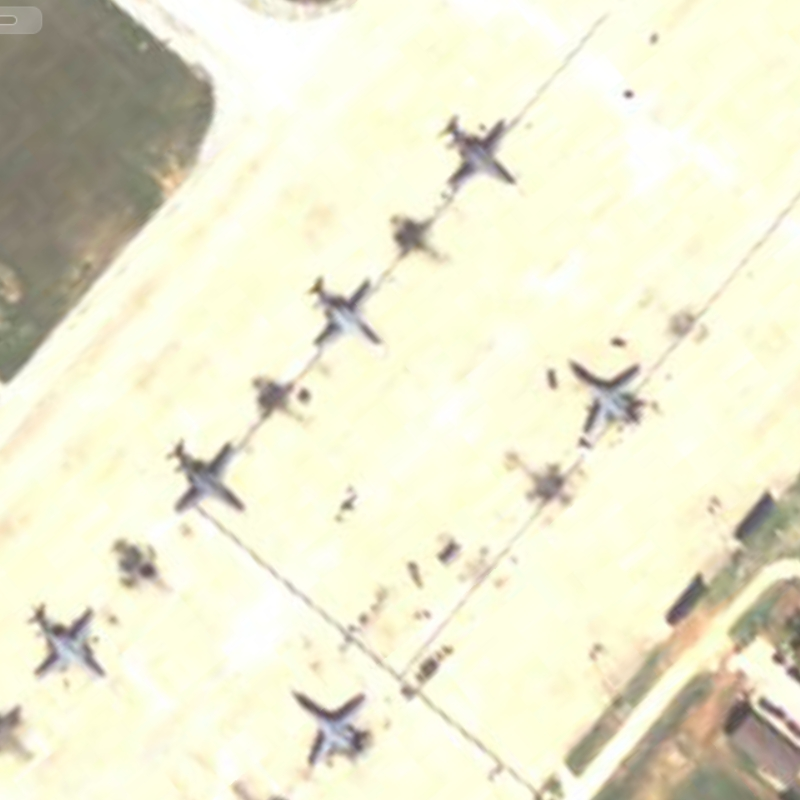A10: (21, 597, 118, 689), (161, 429, 253, 525), (287, 682, 384, 772), (565, 354, 658, 444), (305, 268, 389, 355), (442, 111, 525, 194)
